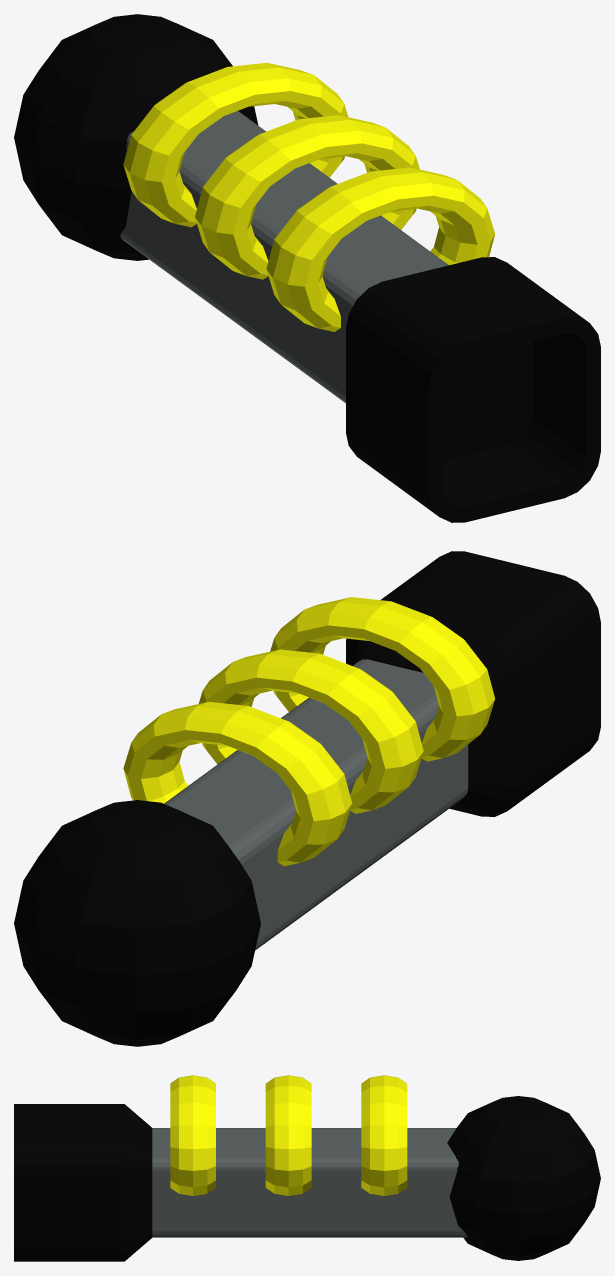
Rendered from rocket_launcher.glb.
The picture shows the model from 3 angles, top to bottom: view 1: azimuth 30°, elevation 25°; view 2: azimuth 150°, elevation 25°; view 3: azimuth 270°, elevation 25°; orthographic projection. The views are drawn at different scales.
Parts seen in each view (by area): view 1: Rifle, Sphere, Cube, Torus2, Torus1, Torus3; view 2: Sphere, Rifle, Cube, Torus1, Torus3, Torus2; view 3: Cube, Rifle, Sphere, Torus1, Torus3, Torus2.
Part boxes in pixels (x1=…): Rifle: x1=346, y1=257, x2=600, y2=522; Sphere: x1=14, y1=14, x2=258, y2=260; Cube: x1=120, y1=111, x2=448, y2=402; Torus2: x1=266, y1=167, x2=494, y2=331; Torus1: x1=123, y1=62, x2=348, y2=227; Torus3: x1=195, y1=115, x2=419, y2=279; Sphere: x1=14, y1=800, x2=260, y2=1046; Rifle: x1=346, y1=551, x2=600, y2=816; Cube: x1=164, y1=659, x2=468, y2=950; Torus1: x1=123, y1=701, x2=352, y2=866; Torus3: x1=198, y1=649, x2=423, y2=813; Torus2: x1=270, y1=597, x2=494, y2=761; Cube: x1=152, y1=1128, x2=467, y2=1237; Rifle: x1=14, y1=1104, x2=152, y2=1261; Sphere: x1=447, y1=1096, x2=600, y2=1260; Torus1: x1=361, y1=1075, x2=407, y2=1195; Torus3: x1=265, y1=1075, x2=311, y2=1195; Torus2: x1=170, y1=1075, x2=215, y2=1195.
Size of the model in its own units: 0.5581 by 0.6201 by 1.97.
4 materials, 1 textured.
